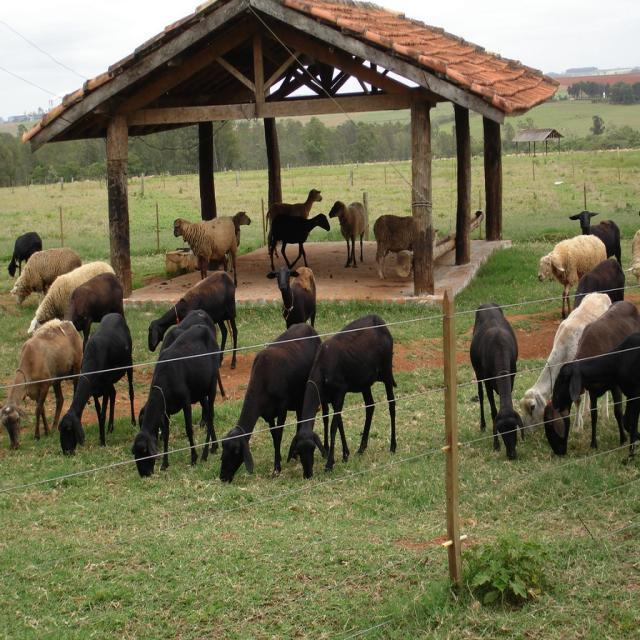Goat: (286, 314, 397, 479), (218, 322, 326, 483)
